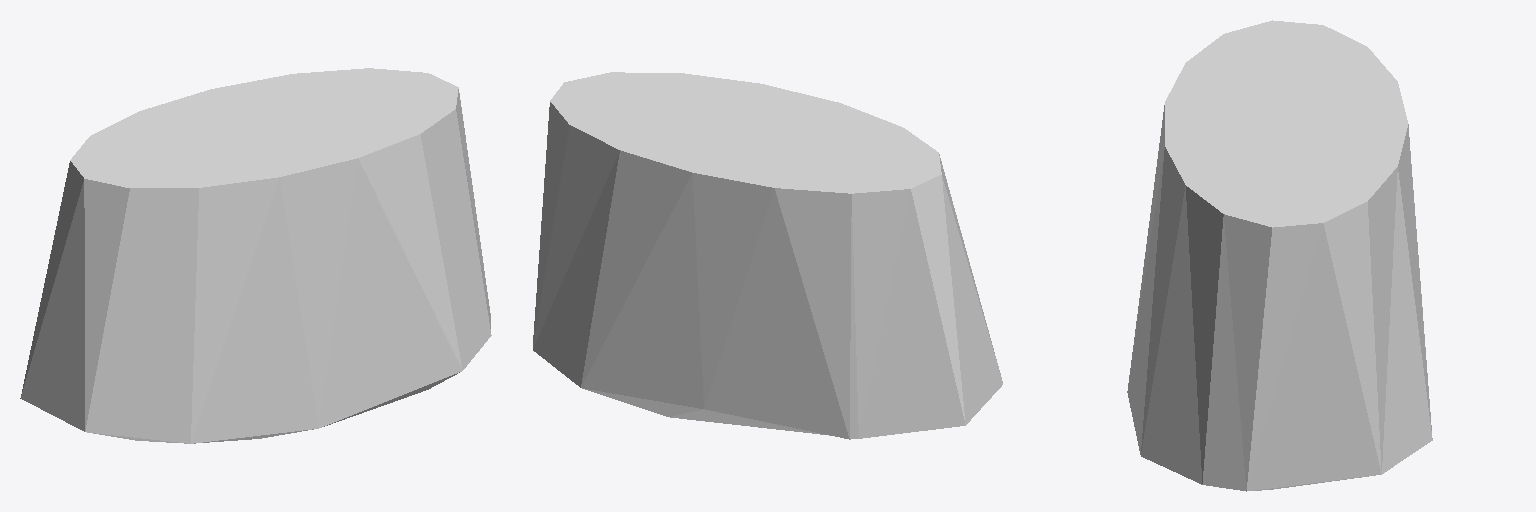
The robot description file, URDF, robot "talos_lleg_rom":
<?xml version="1.0" ?>
<robot name="talos_lleg_rom" xmlns:controller="http://playerstage.sourceforge.net/gazebo/xmlschema/#controller" xmlns:interface="http://playerstage.sourceforge.net/gazebo/xmlschema/#interface" xmlns:sensor="http://playerstage.sourceforge.net/gazebo/xmlschema/#sensor" xmlns:xacro="http://ros.org/wiki/xacro">

  <link name="torso_2_link">
    <inertial>
      <origin rpy="0.00000 0.00000 0.00000" xyz="-0.04551 -0.00053 0.16386"/>
      <mass value="17.55011"/>
      <inertia ixx="0.37376900000" ixy="0.00063900000" ixz="0.01219600000" iyy="0.24790200000" iyz="0.00000700000" izz="0.28140400000"/>
    </inertial>
  </link>
  <!--************************-->
  <!--        TORSO_1  (PAN)  -->
  <!--************************-->
  <link name="torso_1_link">
    <inertial>
      <origin rpy="0.00000 0.00000 0.00000" xyz="0.00013 -0.00001 -0.01306"/>
      <mass value="3.02433"/>
      <inertia ixx="0.00759400000" ixy="0.00000100000" ixz="-0.00004800000" iyy="0.00429200000" iyz="-0.00000100000" izz="0.00749700000"/>
    </inertial>
  </link>
  <joint name="torso_1_joint" type="revolute">
    <parent link="base_link"/>
    <child link="torso_1_link"/>
    <origin rpy="0.0 0.0 0.0" xyz="0.0 0.0 0.0722"/>
    <axis xyz="0 0 1"/>
    <limit effort="78.0" lower="-1.25663706144" upper="1.25663706144" velocity="5.4"/>
  </joint>
  <!--************************-->
  <!--        BASE_LINK       -->
  <!--************************-->
  <link name="base_link">
    <inertial>
      <origin rpy="0.00000 0.00000 0.00000" xyz="-0.08222 0.00838 -0.07261"/>
      <mass value="13.53810"/>
      <inertia ixx="0.06989000000" ixy="-0.00011700000" ixz="0.00023000000" iyy="0.03998200000" iyz="-0.00132500000" izz="0.08234500000"/>
    </inertial>
    <visual>
      <origin rpy="0 0 0" xyz="0 0 0"/>
      <geometry>
        <mesh filename="package://talos-rbprm/meshes/talos_lleg_rom_reduced.dae" scale="1 1 1"/>
      </geometry>
      <material name="LightGrey"/>
    </visual>
    <collision>
      <origin rpy="0 0 0" xyz="0 0 0"/>
      <geometry>
        <mesh filename="package://talos-rbprm/meshes/talos_lleg_rom_reduced.stl" scale="1 1 1"/>
      </geometry>
    </collision>
  </link>
  <joint name="torso_2_joint" type="revolute">
    <parent link="torso_1_link"/>
    <child link="torso_2_link"/>
    <origin rpy="0.0 0.0 0.0" xyz="0.0 0.0 0.0"/>
    <axis xyz="0 1 0"/>
    <limit effort="78.0" lower="-0.226892802759" upper="0.733038285838" velocity="5.4"/>
  </joint>
  <!-- define global properties -->
  <!-- <xacro:property name="M_PI" value="3.1415926535897931" /> -->
  <!-- Materials for visualization -->
  <material name="Blue">
    <color rgba="0.0 0.0 0.8 1.0"/>
  </material>
  <material name="Green">
    <color rgba="0.0 0.8 0.0 1.0"/>
  </material>
  <material name="Grey">
    <color rgba="0.7 0.7 0.7 1.0"/>
  </material>
  <material name="LightGrey">
    <color rgba="0.9 0.9 0.9 1.0"/>
  </material>
  <material name="DarkGrey">
    <color rgba="0.2 0.2 0.2 1.0"/>
  </material>
  <material name="Red">
    <color rgba="0.8 0.0 0.0 1.0"/>
  </material>
  <material name="White">
    <color rgba="1.0 1.0 1.0 1.0"/>
  </material>
  <material name="Orange">
    <color rgba="1.0 0.5 0.0 1.0"/>
  </material>
</robot>

--- What the picture shows (computed from the rendered views, not written in the file) ---
3 views of the same robot in one strip: view 1: azimuth 30°, elevation 25°; view 2: azimuth 150°, elevation 25°; view 3: azimuth 270°, elevation 25° (orthographic).
Robot: talos_lleg_rom — 3 links, 2 joints (2 revolute); root link base_link; default pose: every joint at zero.
Visible links, largest first — view 1: base_link; view 2: base_link; view 3: base_link.
Boxes of the visible links, left/top/right/bottom form: base_link: left=20, top=68, right=491, bottom=443; base_link: left=533, top=72, right=1002, bottom=439; base_link: left=1127, top=20, right=1432, bottom=491.
Size in the robot's own frame: 0.6991 by 0.3718 by 0.4096 metres.
1 mesh visuals loaded from 1 distinct referenced files (1 Collada DAE).